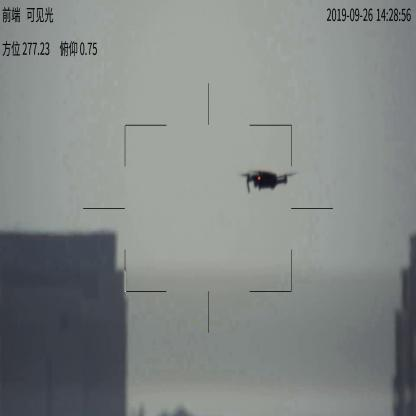uav: (237, 166, 294, 196)
